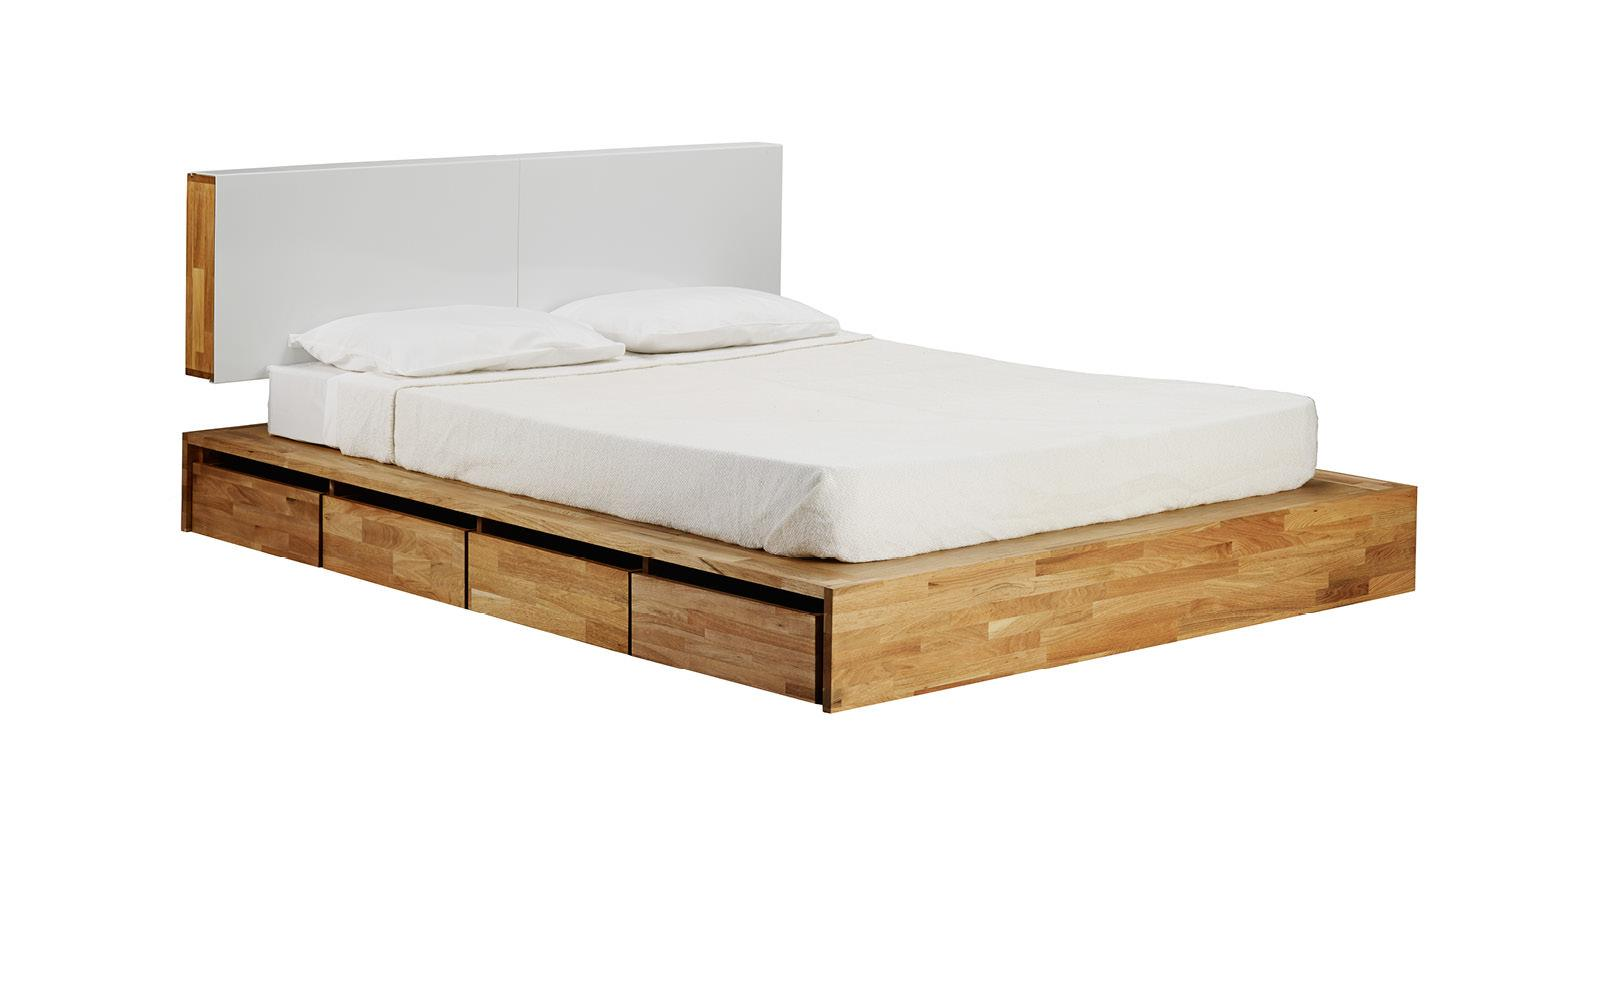bed: (162, 167, 1430, 688)
